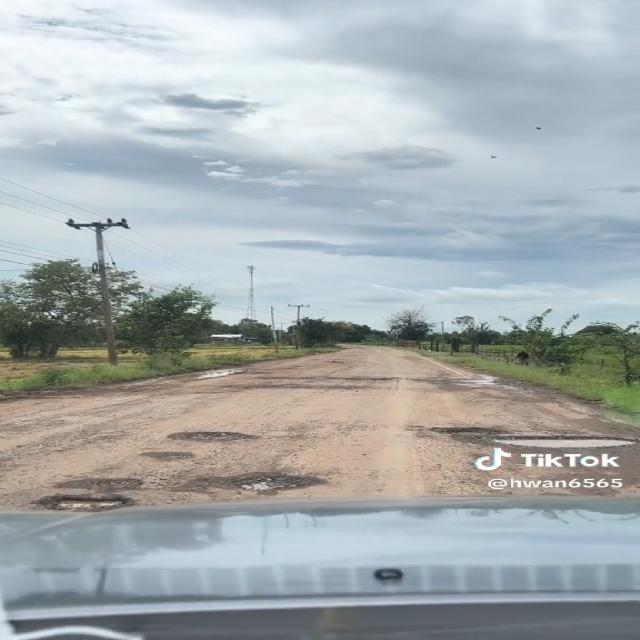Poth-hole: (244, 367, 420, 430)
